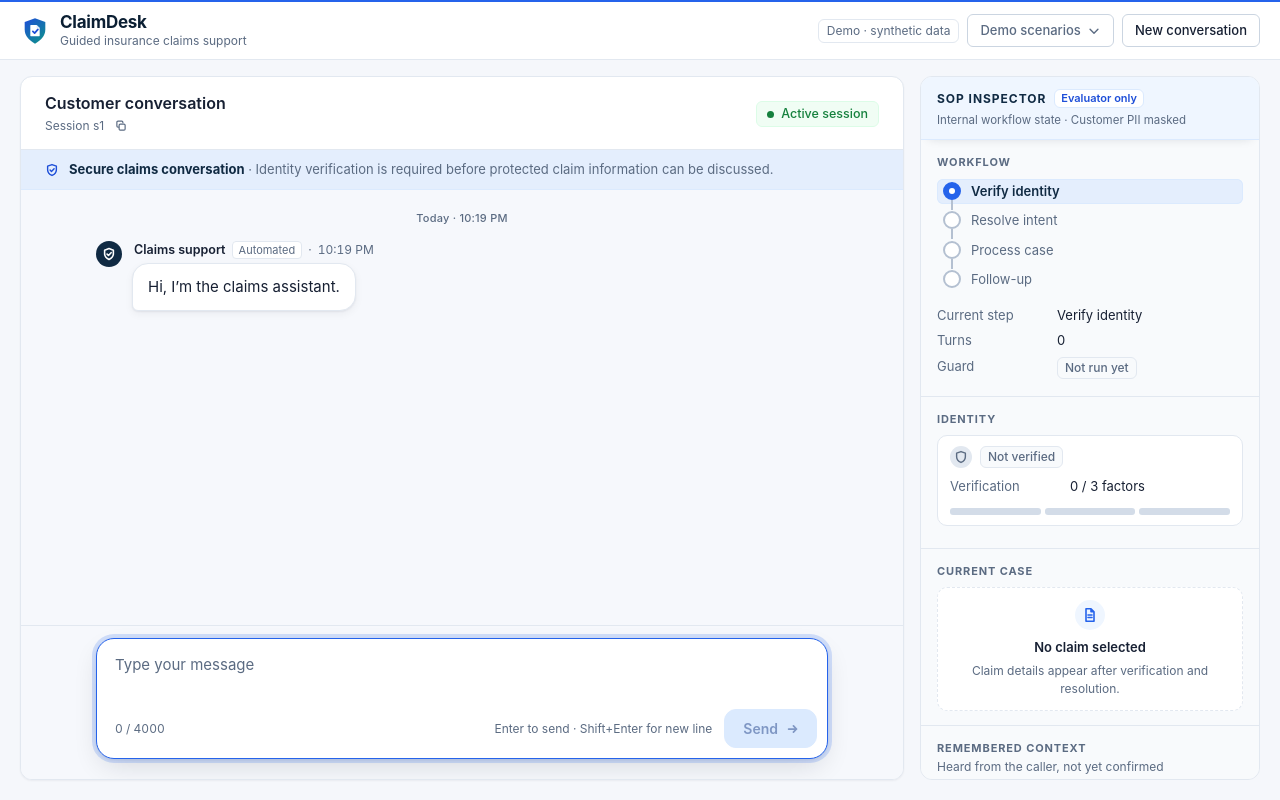
the Demo scenarios menu › puts focus on the first item, moves with the arrow keys, and closes with Escape
The width and height of the screenshot is (1280, 800).
Expected: the text "Hi, I’m the claims assistant." is shown, 148,275 -> 340,299
Click the button "Demo scenarios": (1041,31) 967,14 -> 1114,47
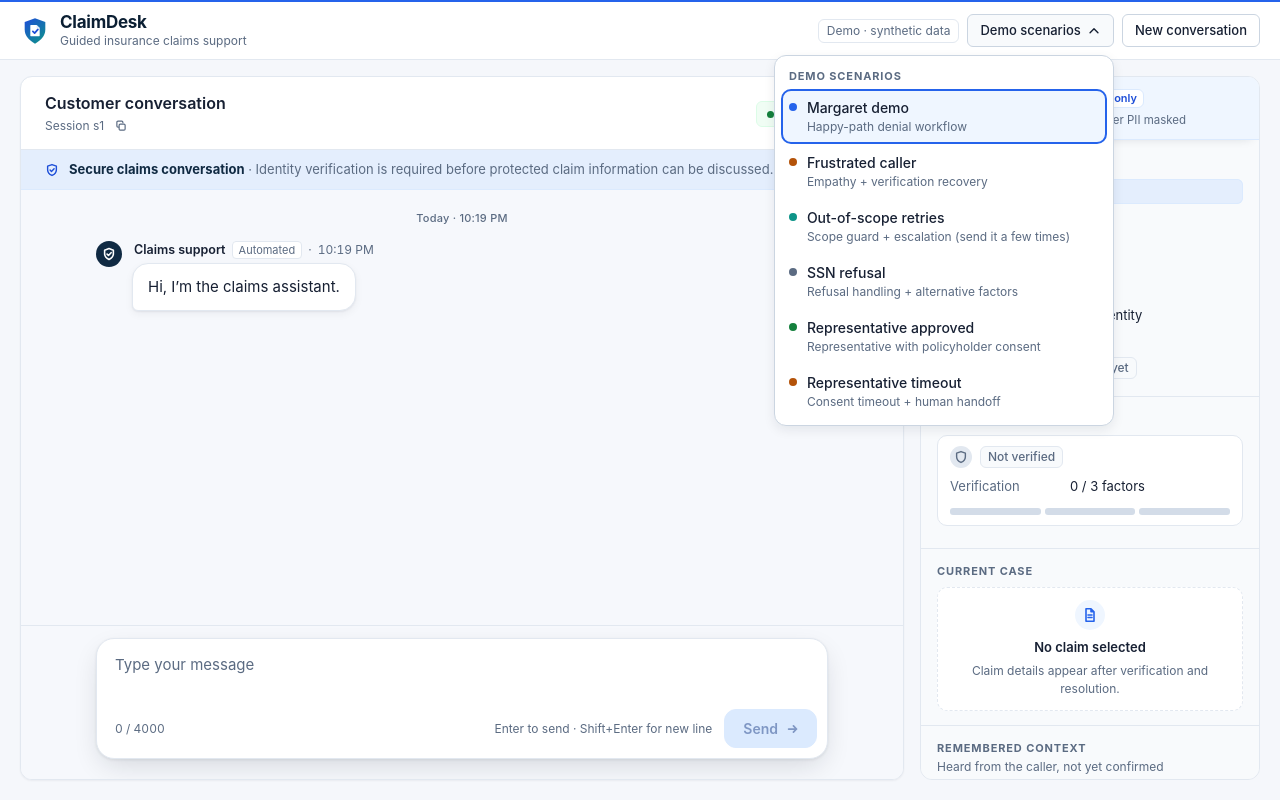
Press Arrowdown
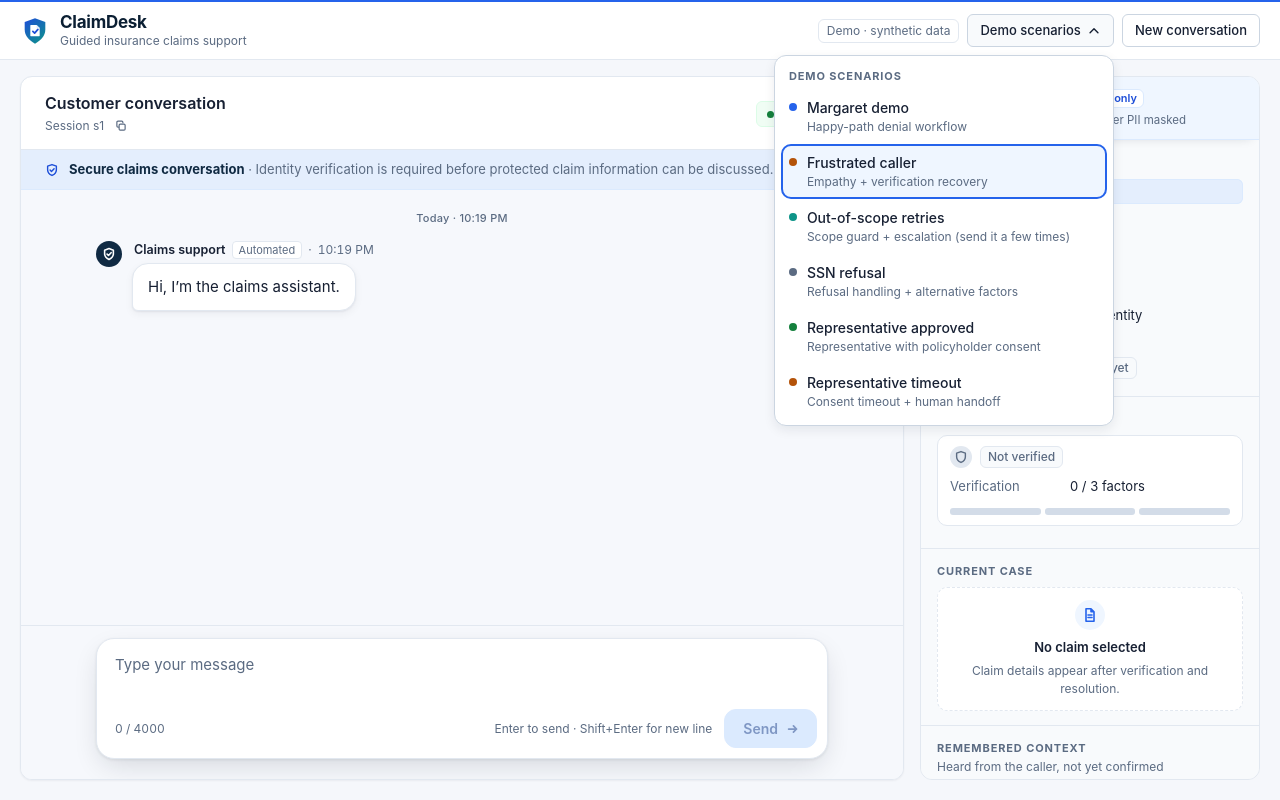
Press Arrowup Arrowup
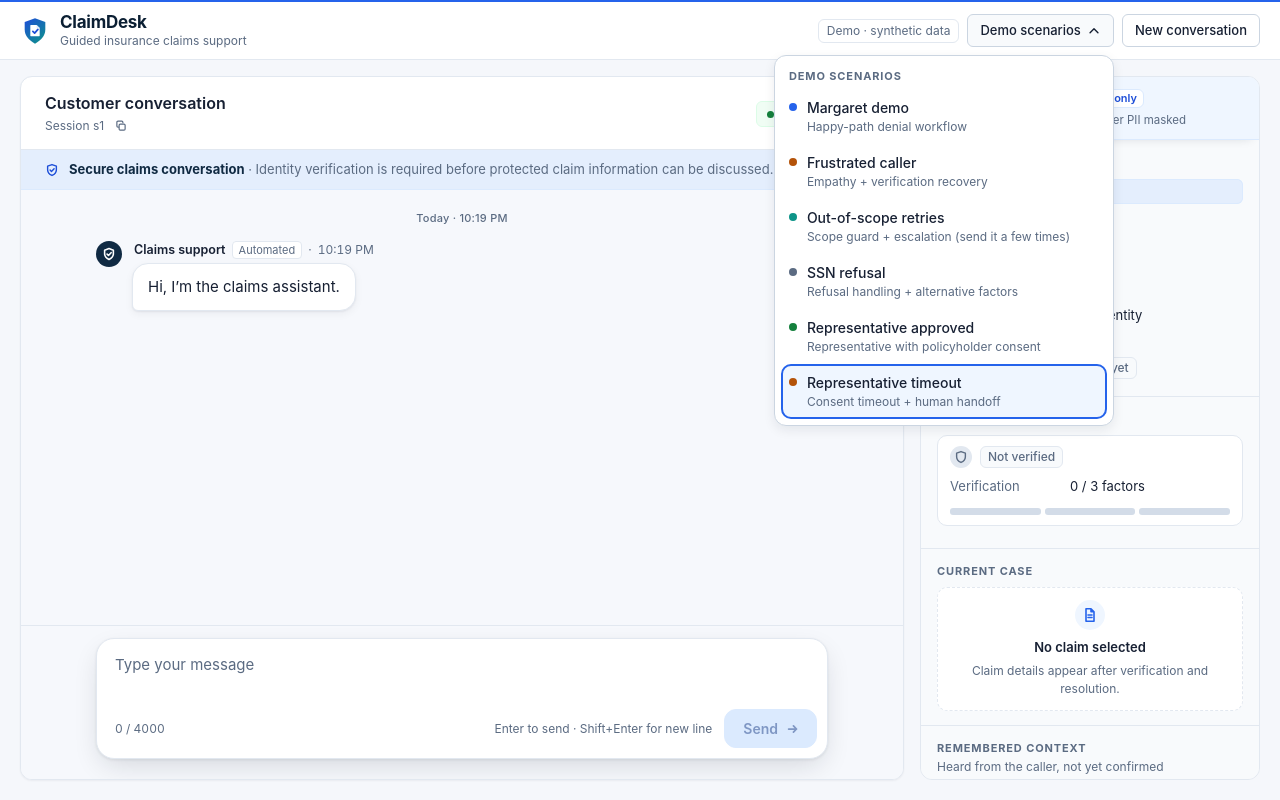
Press Escape
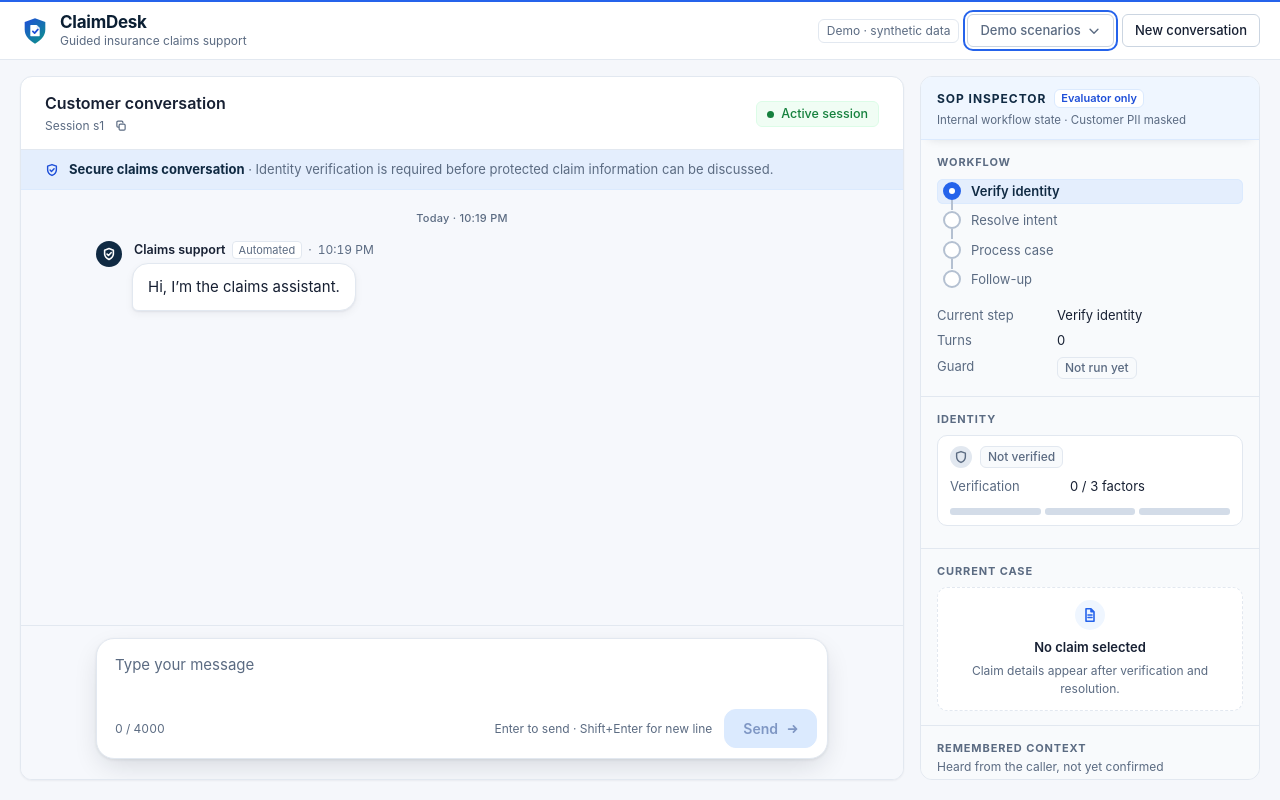
Expected: the menu is gone
